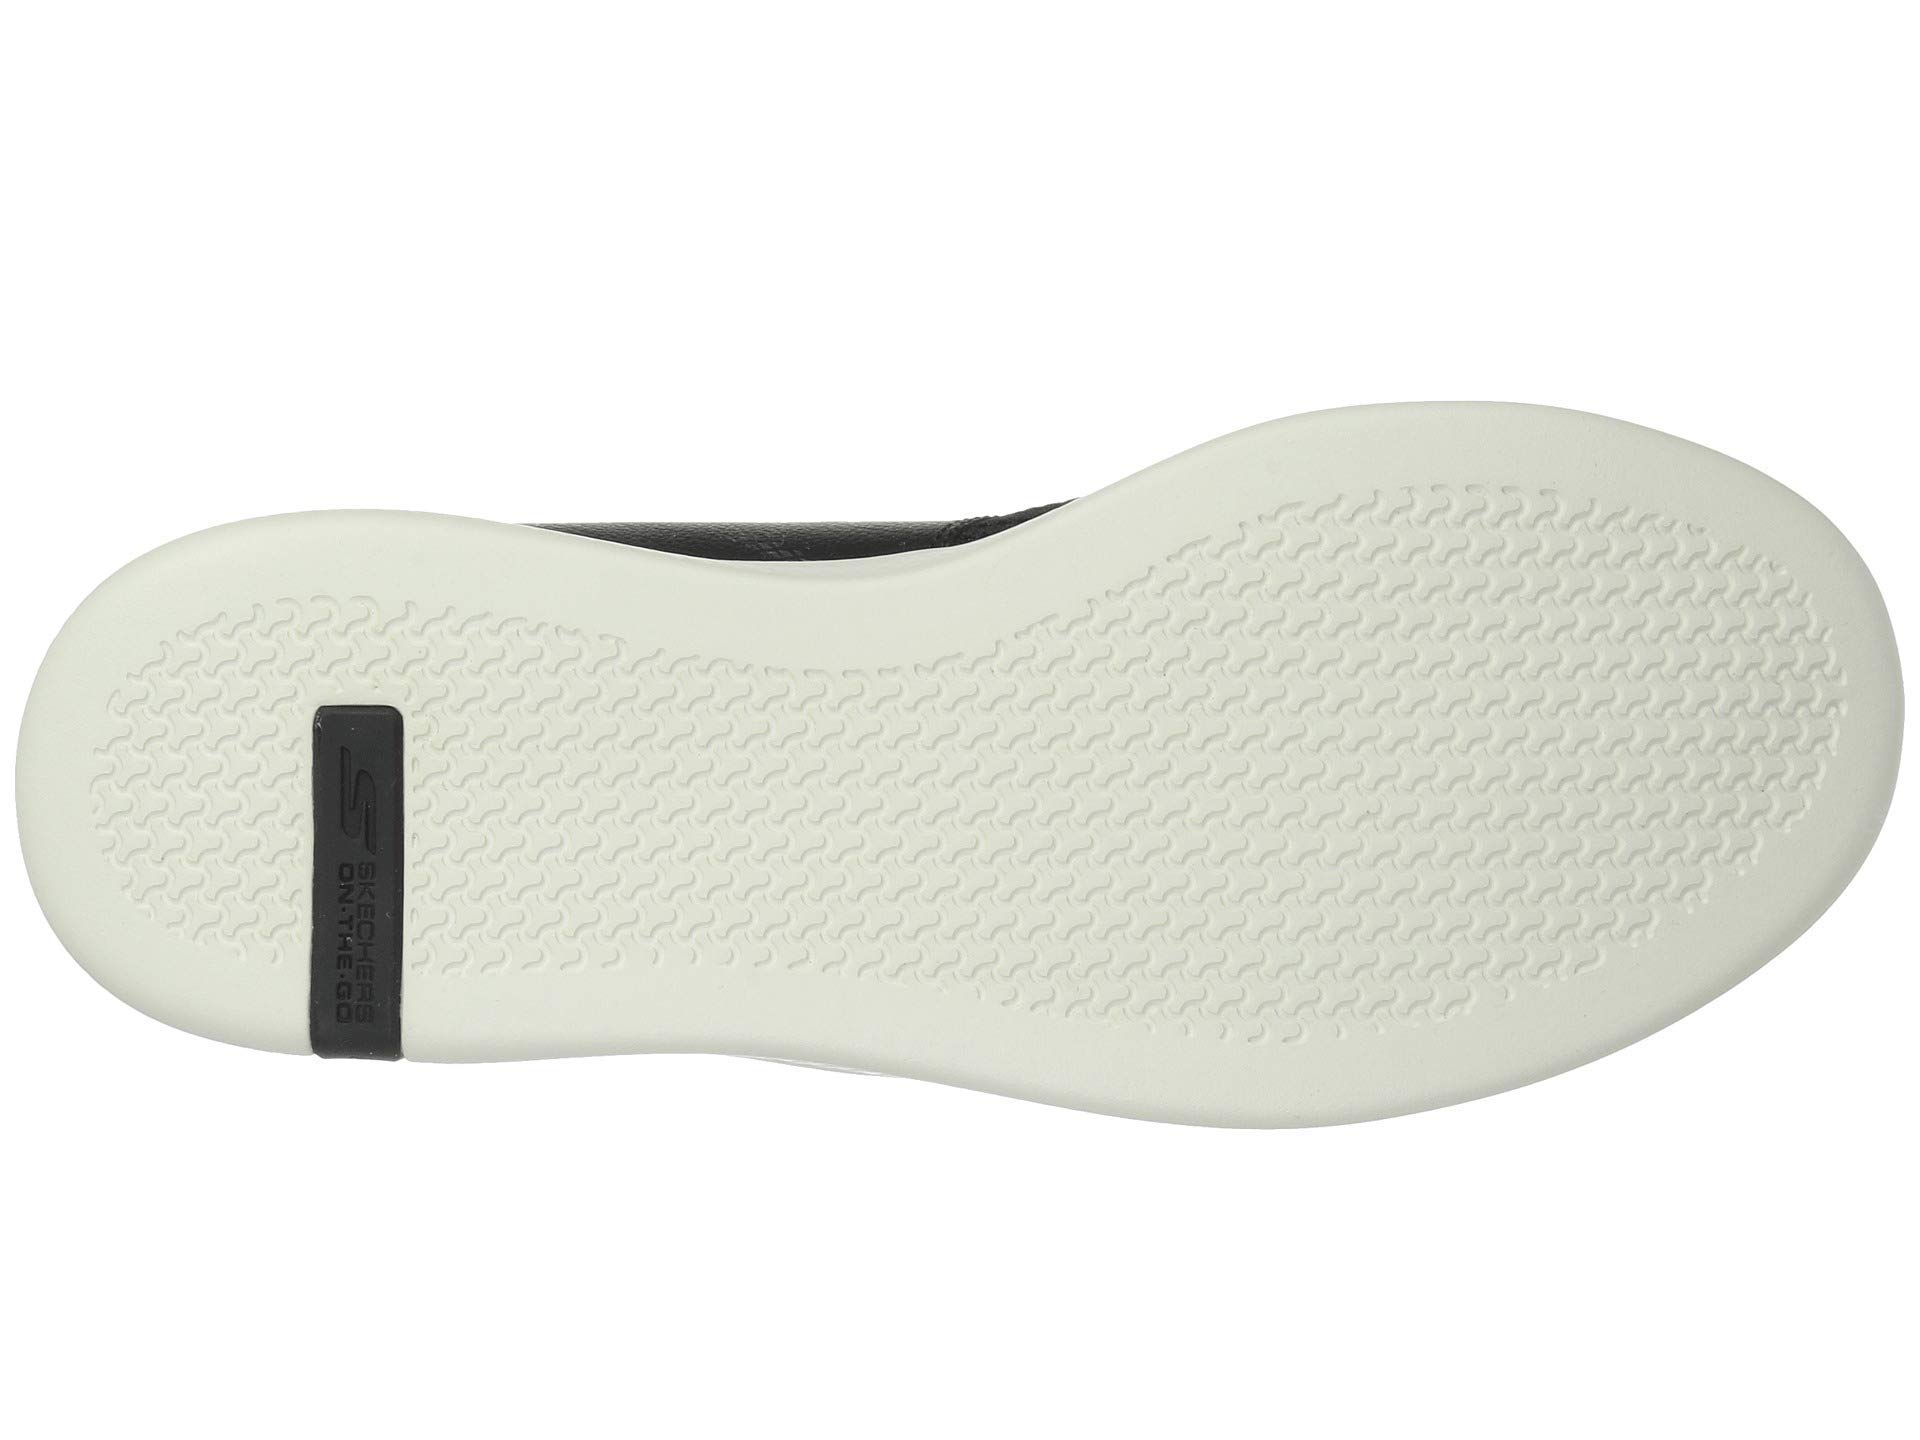quad: (203, 672, 559, 1069)
star: (203, 672, 559, 1069), (1212, 590, 1566, 968), (960, 762, 1172, 974), (835, 725, 943, 836)
text: (203, 672, 559, 1069)
